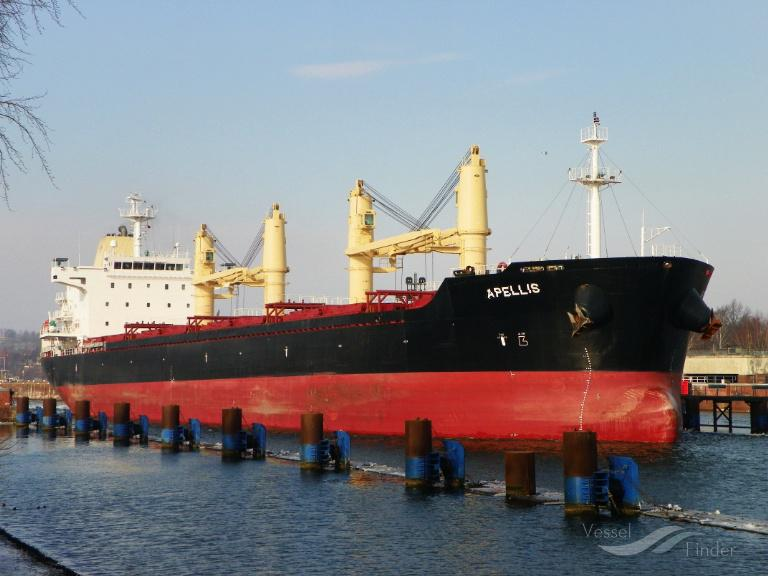OCR: (478, 283, 546, 308)
